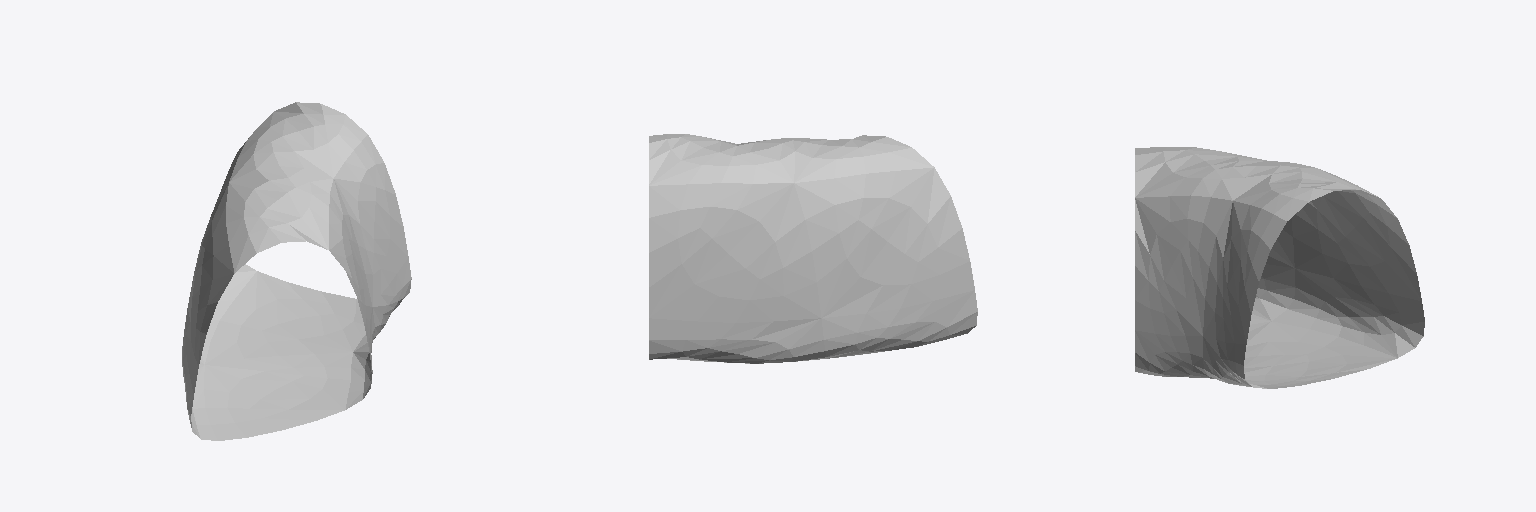
The model's file is cave_602r_1.obj.
The picture shows the model from 3 angles: view 1: azimuth 30°, elevation 25°; view 2: azimuth 150°, elevation 25°; view 3: azimuth 270°, elevation 25°; orthographic projection.
Parts seen in each view (by area): view 1: cave_602r_1_Cube.038; view 2: cave_602r_1_Cube.038; view 3: cave_602r_1_Cube.038.
Boxes of the visible parts, <box> form: cave_602r_1_Cube.038: <box>182,102,411,440</box>; cave_602r_1_Cube.038: <box>649,134,977,363</box>; cave_602r_1_Cube.038: <box>1135,147,1424,388</box>.
Size of the model in its own units: 8.9 by 6.81 by 8.14.